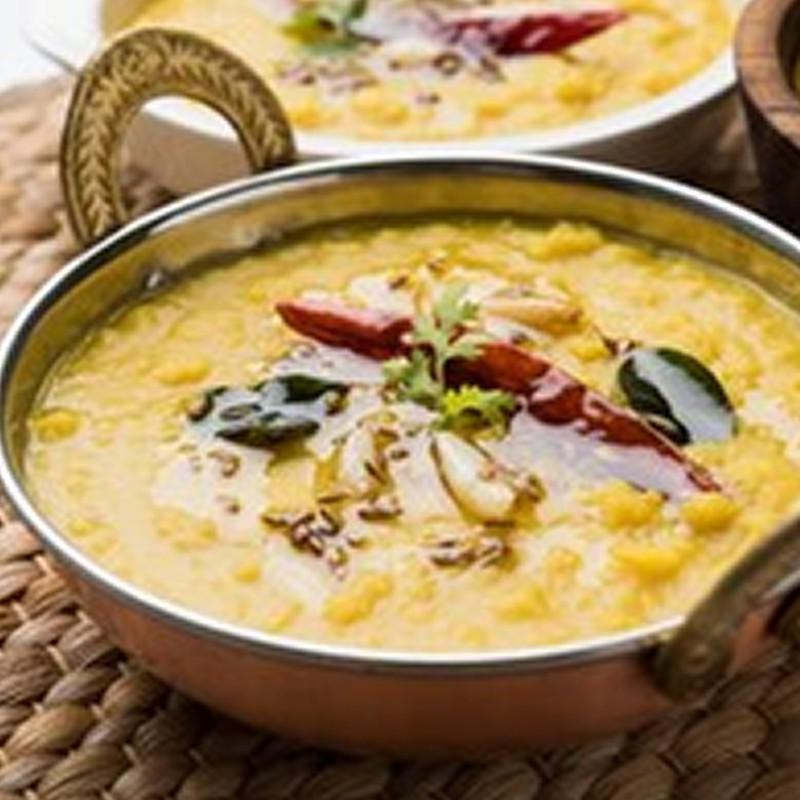Dal: (27, 222, 800, 654)
